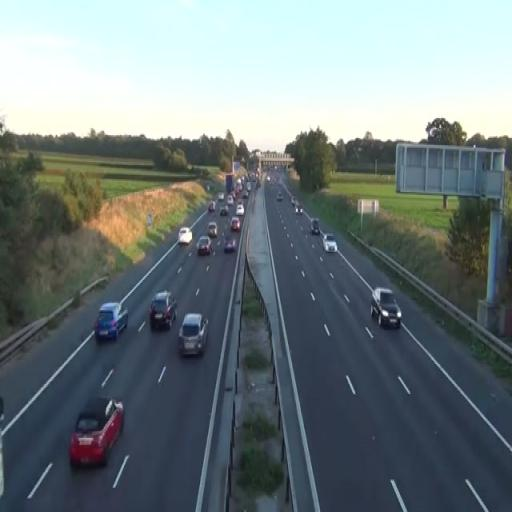Car: (68, 394, 124, 468), (178, 312, 209, 358), (94, 301, 128, 342), (371, 287, 402, 329), (148, 291, 178, 331), (196, 236, 212, 256), (322, 232, 338, 252), (178, 227, 192, 245), (224, 238, 237, 253), (207, 221, 218, 238), (310, 218, 320, 234), (230, 217, 240, 232), (236, 202, 244, 216)
